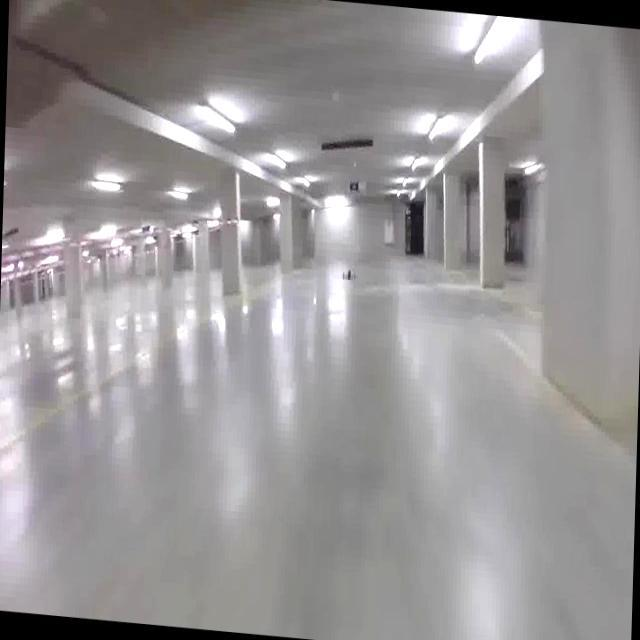drone: (341, 262, 359, 290)
